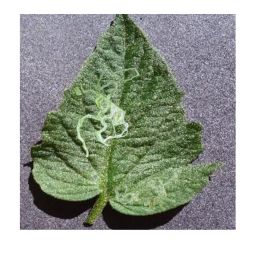liriomyza: (74, 68, 139, 158)
